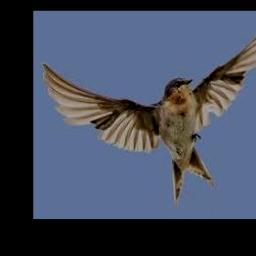Swallow: (41, 17, 256, 208)
